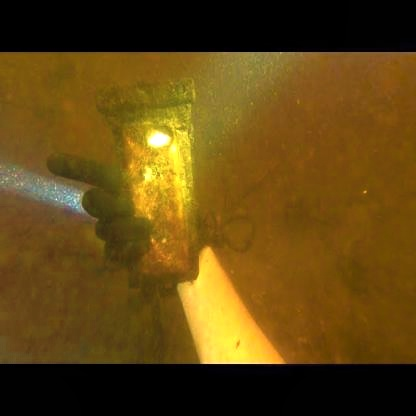cellphone: (117, 118, 191, 280)
